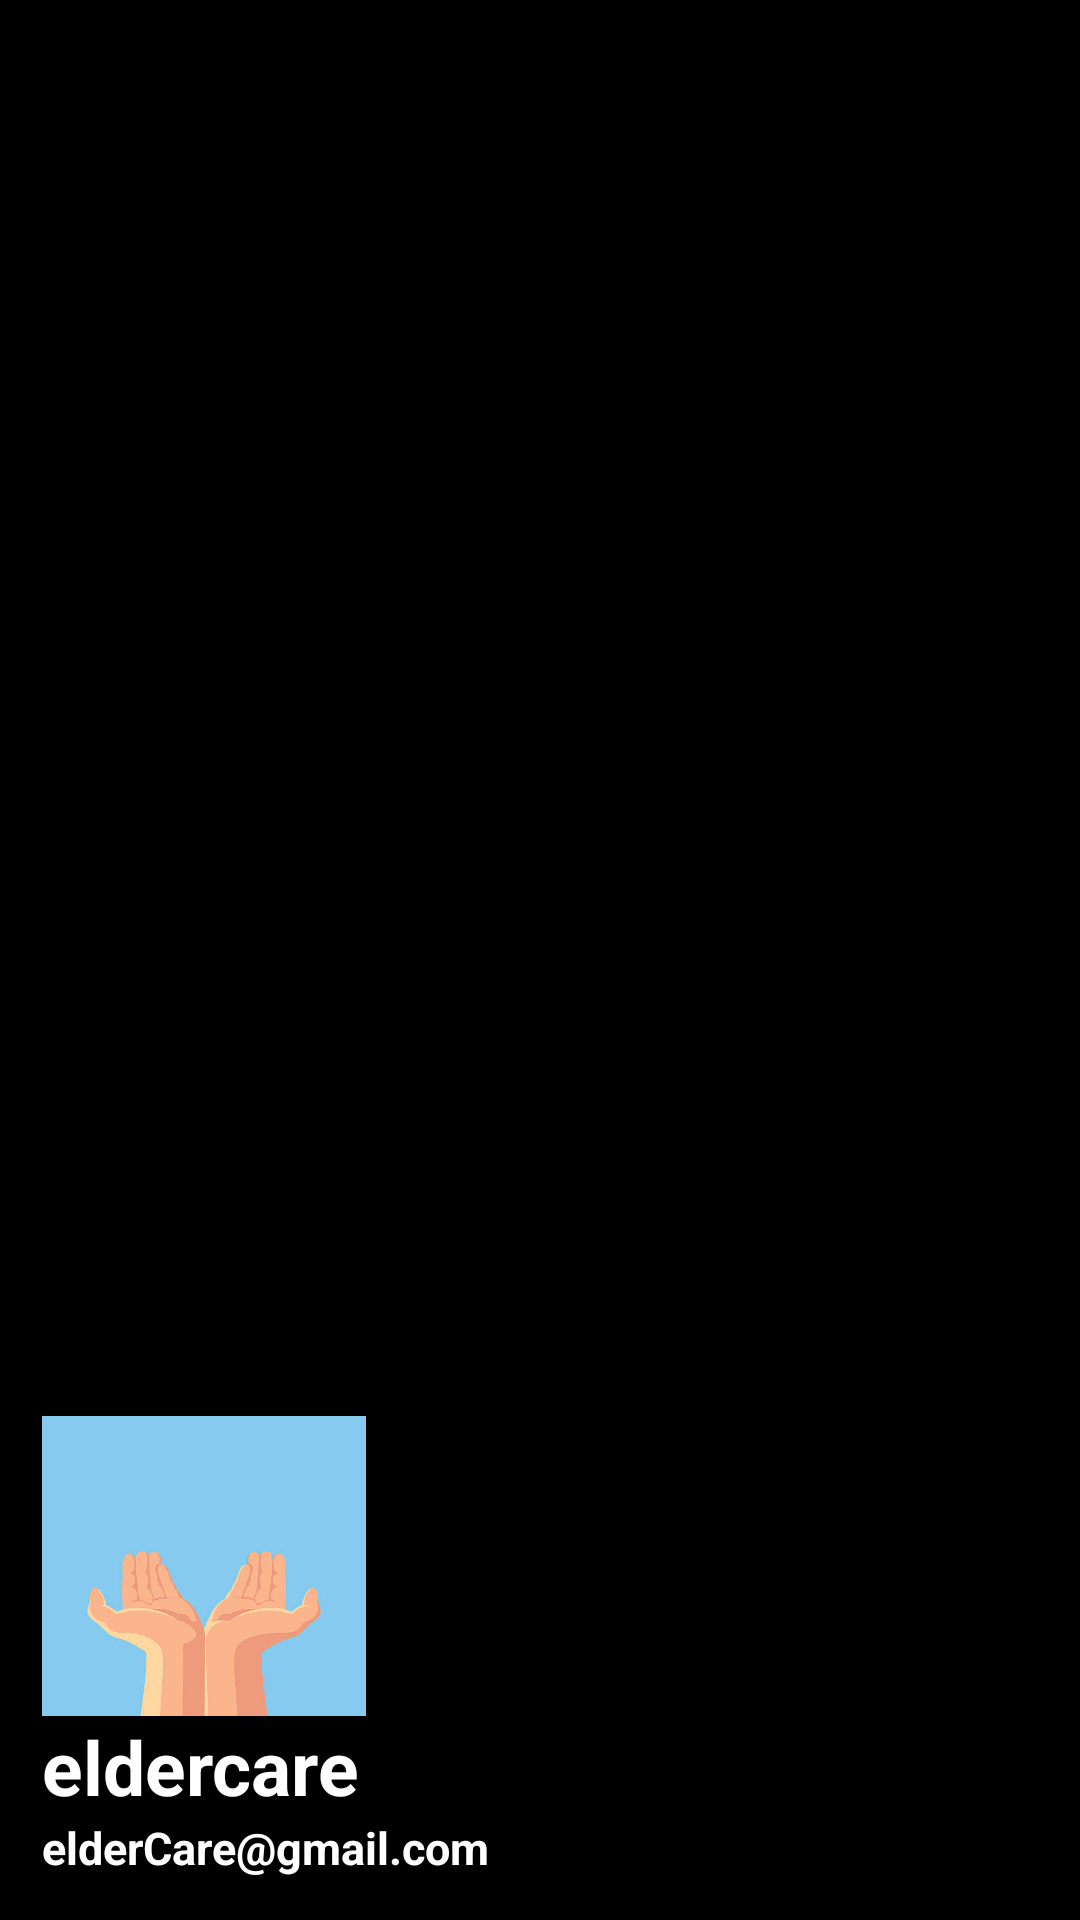

Screen size 1080w x 1920h. Icon name, then its center in pixels as (x=x, y=y):
Header Image: (x=204, y=1566)
